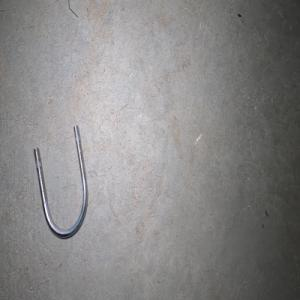ClampPart: (33, 124, 88, 239)
